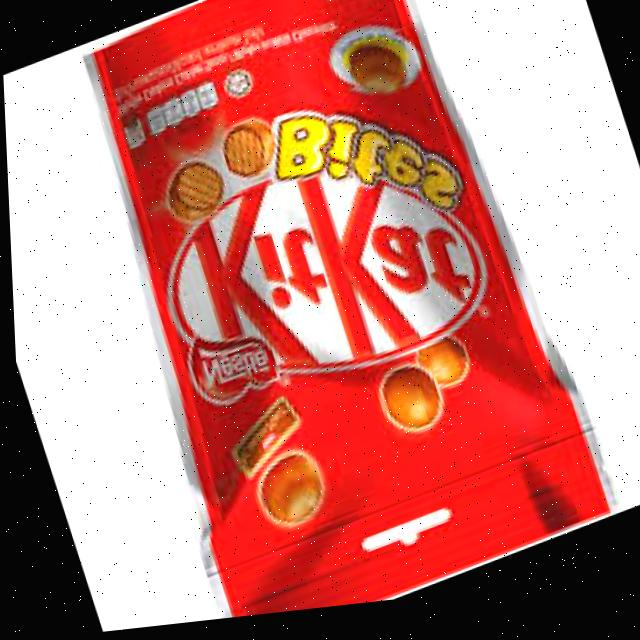kitkat: (37, 0, 620, 637)
